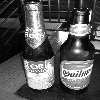beer: (21, 2, 57, 94)
